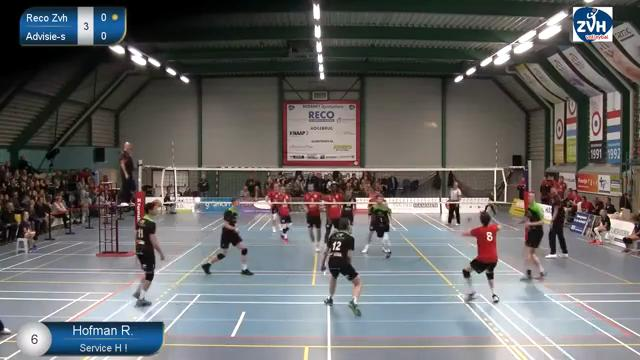Player: (321, 218, 361, 315), (202, 199, 252, 275), (133, 200, 164, 306), (522, 193, 545, 280), (369, 196, 391, 258), (304, 183, 321, 251), (362, 192, 380, 253), (324, 183, 342, 242), (277, 186, 291, 242), (266, 182, 279, 232), (341, 190, 355, 225)
Receive: (449, 205, 505, 313)
ball: (425, 121, 438, 130)
